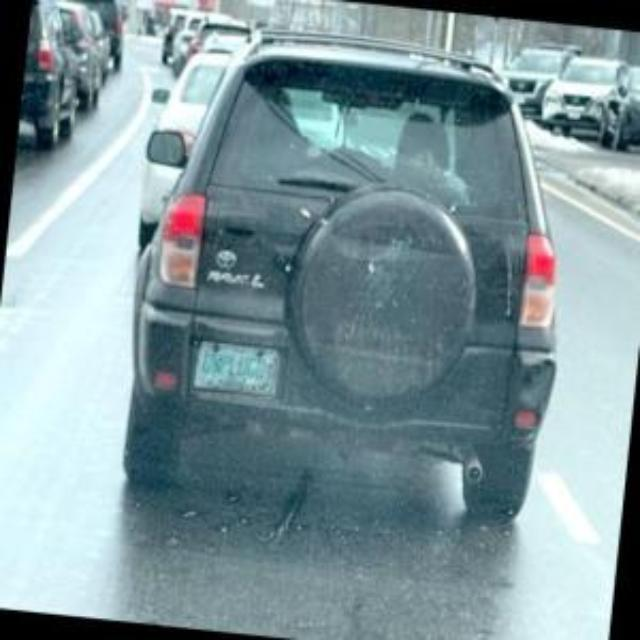License Plate: (189, 341, 287, 400)
